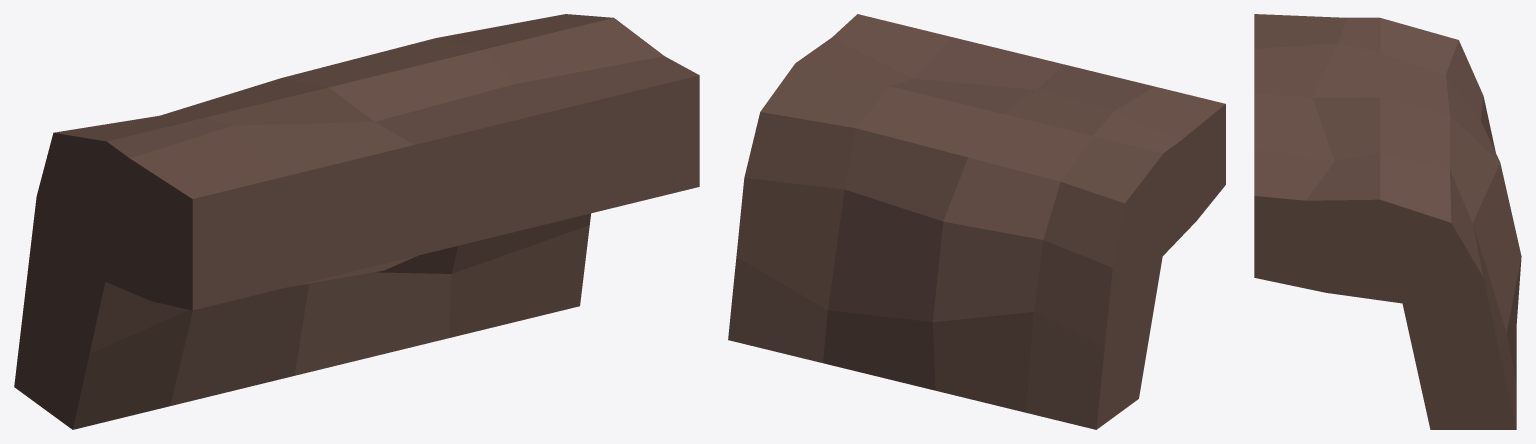
Rendered from Cave_Ceiling_Border_Low.fbx.
3 views of the same model, side by side, from view 1: azimuth 30°, elevation 25°; view 2: azimuth 150°, elevation 25°; view 3: azimuth 270°, elevation 25° (orthographic). The views are drawn at different scales.
Visible parts, largest first — view 1: Cave_Ceiling_Border_Low; view 2: Cave_Ceiling_Border_Low; view 3: Cave_Ceiling_Border_Low.
Boxes of the visible parts, x1,y1,x2,y2 form: Cave_Ceiling_Border_Low: [14, 14, 699, 429]; Cave_Ceiling_Border_Low: [728, 14, 1225, 429]; Cave_Ceiling_Border_Low: [1254, 14, 1521, 429].
Bounding box in the file's own units: 5 × 3.1 × 3.07.
